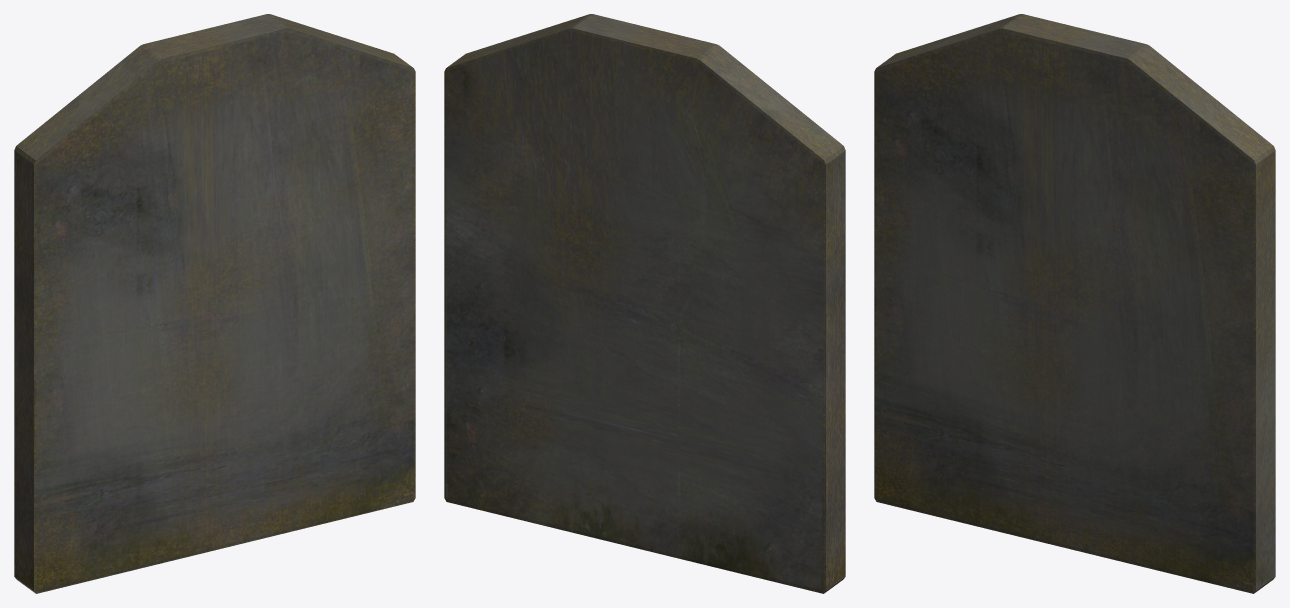
3 views of the same model, side by side, from view 1: azimuth 30°, elevation 25°; view 2: azimuth 150°, elevation 25°; view 3: azimuth 330°, elevation 25° (orthographic).
Parts seen in each view (by area): view 1: Cube; view 2: Cube; view 3: Cube.
Boxes of the visible parts, box(x1,y1,x2,y2) form: Cube: box(14, 14, 415, 593); Cube: box(444, 14, 845, 593); Cube: box(874, 14, 1275, 593).
Bounding box in the file's own units: 268 × 338 × 24.32.
Materials: 1 (1 with a texture image).
